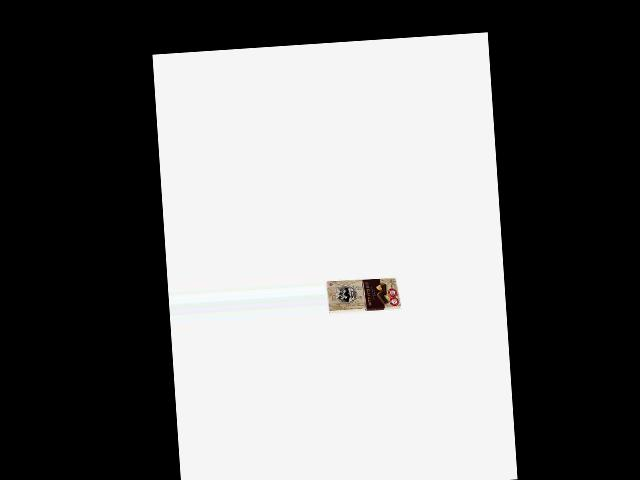chocolate: (326, 275, 402, 319)
